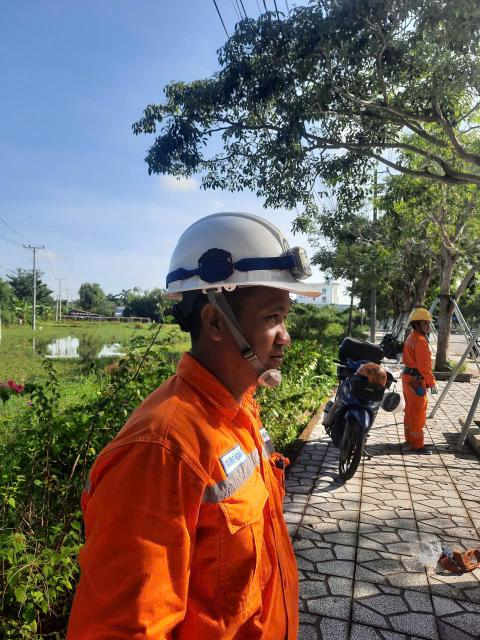gloves: (426, 380, 440, 396)
harness: (400, 363, 431, 384)
helmet: (141, 209, 325, 309), (403, 300, 442, 326)
shoes: (412, 444, 435, 456)
